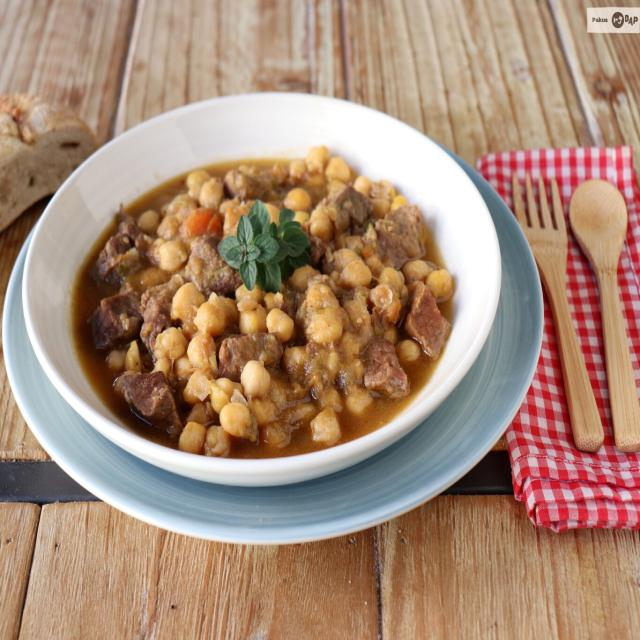garbanzos: (82, 148, 446, 446)
